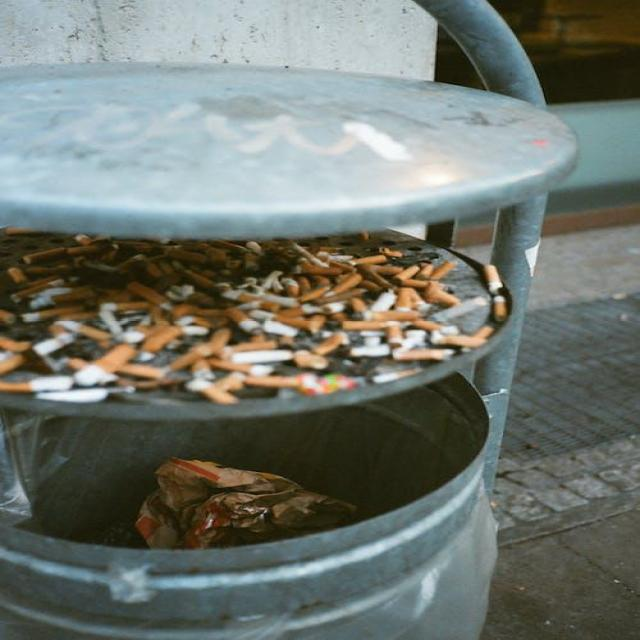paper: (110, 452, 348, 542)
